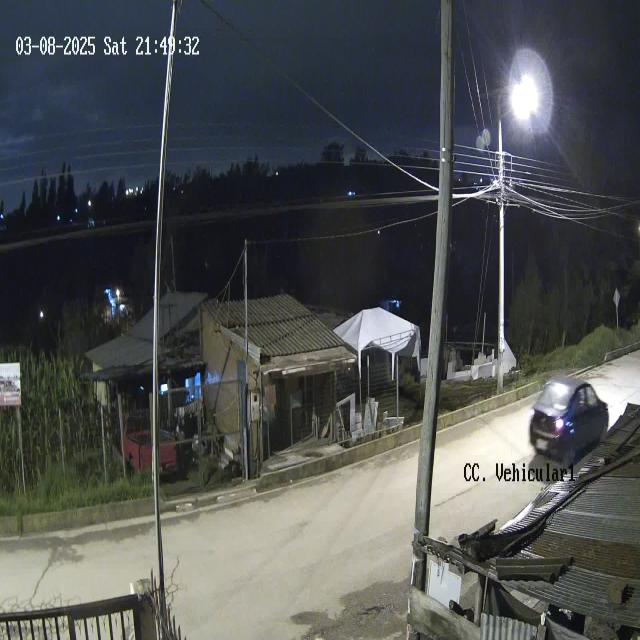SED: (528, 374, 611, 461)
